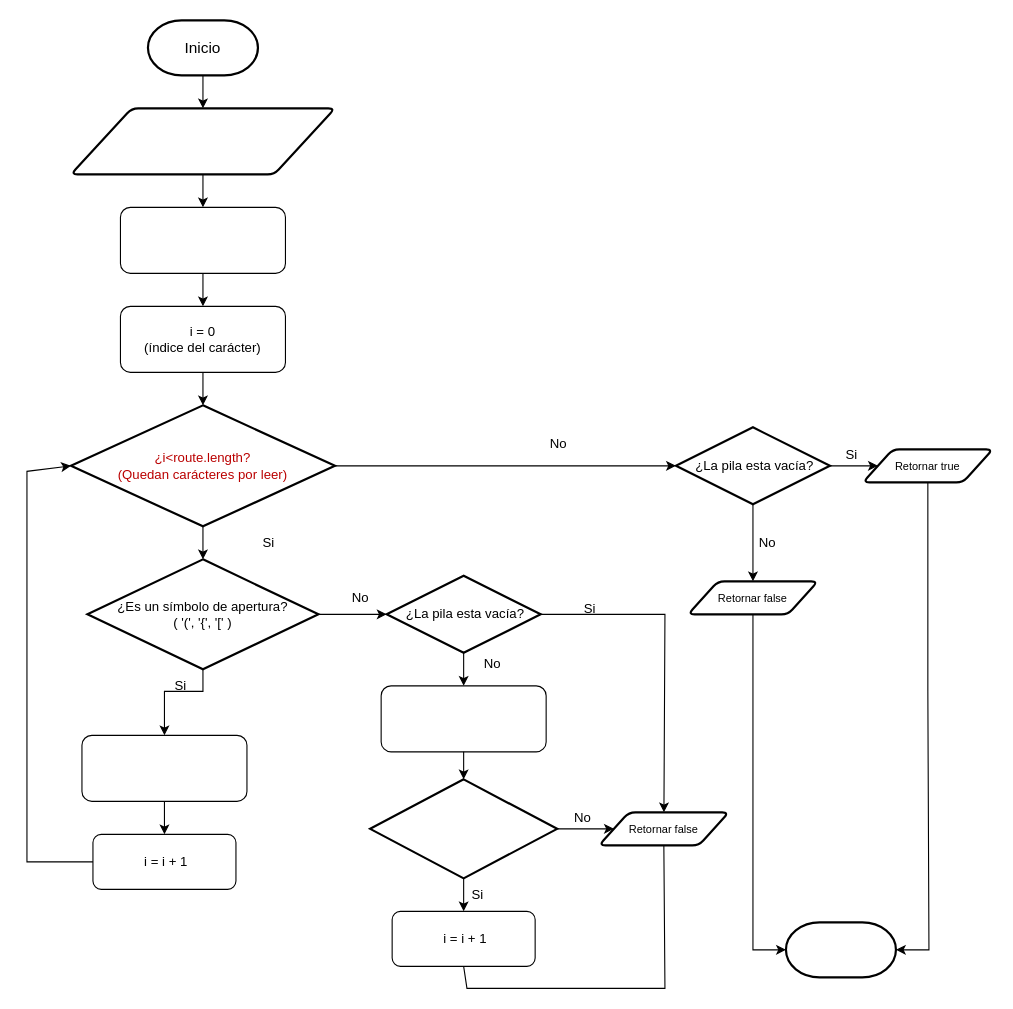
Image size: 1013x1009. Some labels were removed from this diagram. Each missing label, with the centre of its shape:
"Crear pila vacía (pila)" goes at point 202,239.
"Fin" goes at point 840,949.
"Guardar el carácter en la pila" goes at point 164,767.
"Obtener y eliminar el último símbolo de la pila" goes at point 463,718.
"Recibir cadena de portales (route)" goes at point 202,141.
"¿ Coincide con el símbolo de cierre? (), [], { }" goes at point 463,828.
